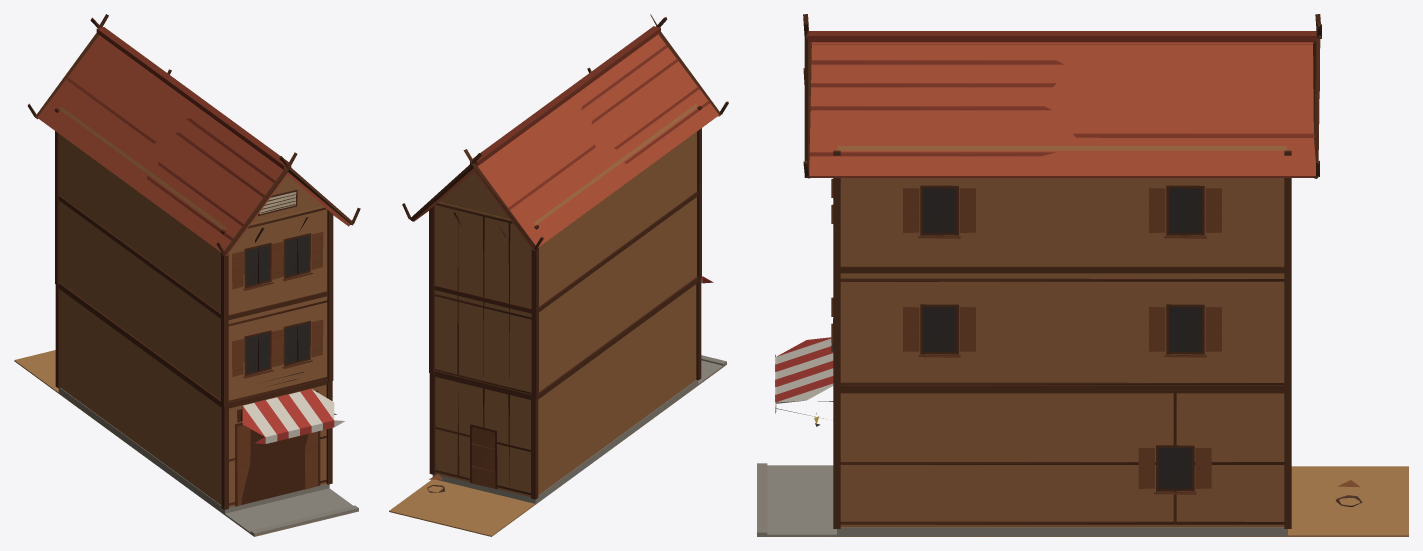
Rendered from bay2_right.glb.
3 renders of one model, left to right at view 1: azimuth 30°, elevation 25°; view 2: azimuth 150°, elevation 25°; view 3: azimuth 270°, elevation 25°, orthographic. The views are drawn at different scales.
Parts seen in each view (by area): view 1: body, windows; view 2: body; view 3: body, windows.
Boxes of the visible parts, x1=… form: body: x1=14, y1=14, x2=360, y2=536; windows: x1=246, y1=235, x2=309, y2=373; body: x1=389, y1=14, x2=728, y2=536; body: x1=757, y1=14, x2=1408, y2=536; windows: x1=814, y1=188, x2=1201, y2=489.
Size of the model in its own units: 5.52 by 13.03 by 15.9.
